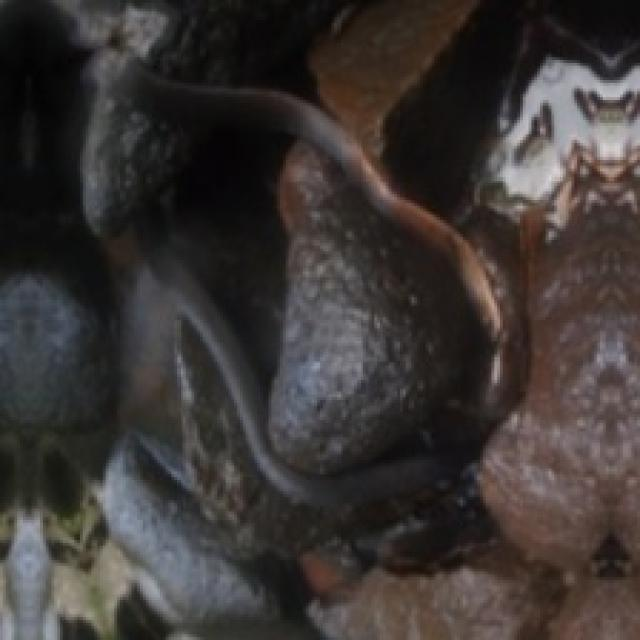reddish rat snake: (84, 61, 528, 508)
